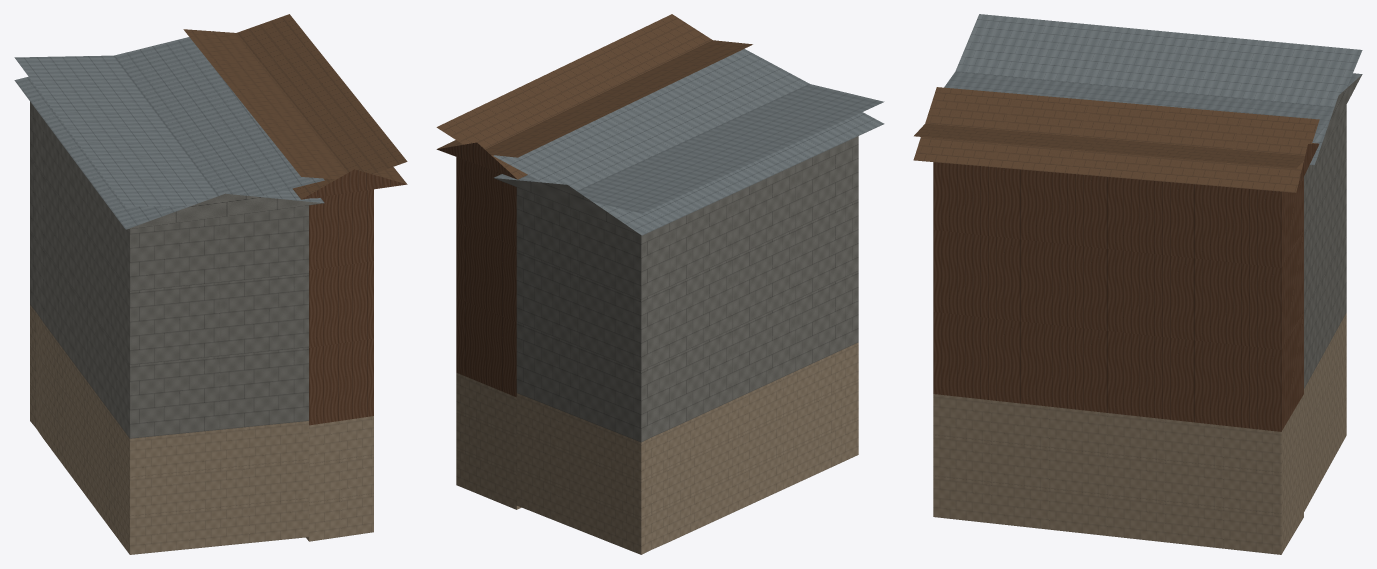
The model's file is bld_c12_29_393.gltf.
3 views of the same model, side by side, from view 1: azimuth 30°, elevation 25°; view 2: azimuth 150°, elevation 25°; view 3: azimuth 270°, elevation 25° (orthographic). The views are drawn at different scales.
Parts seen in each view (by area): view 1: bld_c12_29_393; view 2: bld_c12_29_393; view 3: bld_c12_29_393.
Boxes of the visible parts, <box> form: bld_c12_29_393: <box>14,14,407,554</box>; bld_c12_29_393: <box>436,14,884,554</box>; bld_c12_29_393: <box>913,14,1362,554</box>.
Bounding box in the file's own units: 14.4 × 16.3 × 16.87.
7 materials, 7 textured.
